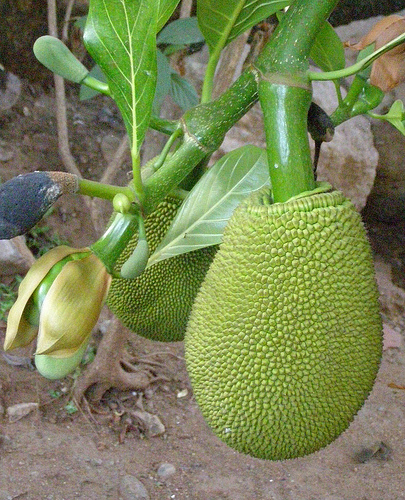jackfruit: (182, 182, 390, 466), (101, 195, 218, 342)
